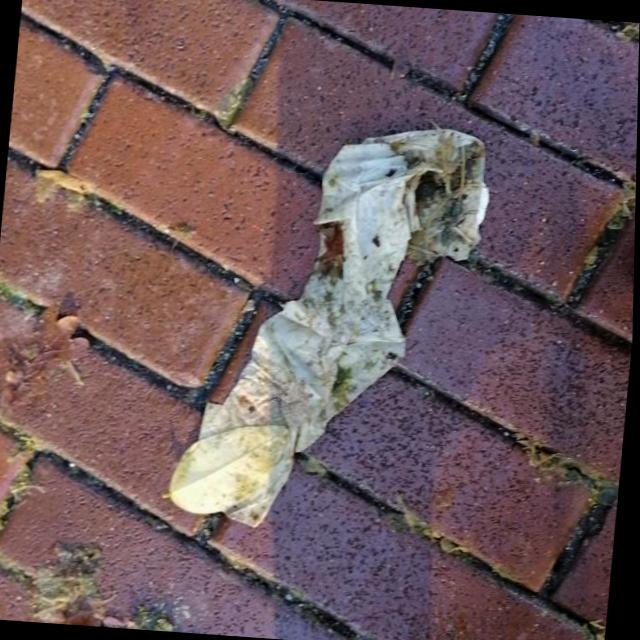Paper: (208, 110, 498, 464)
